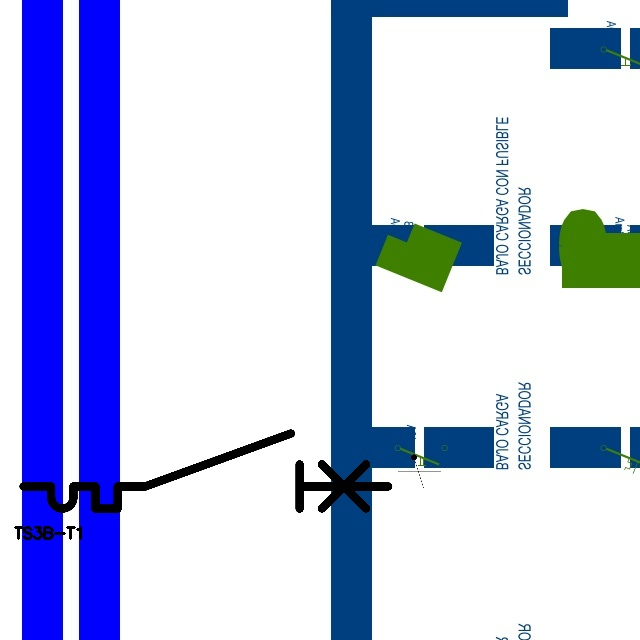interruptor_termomagnetico: (14, 424, 397, 518)
